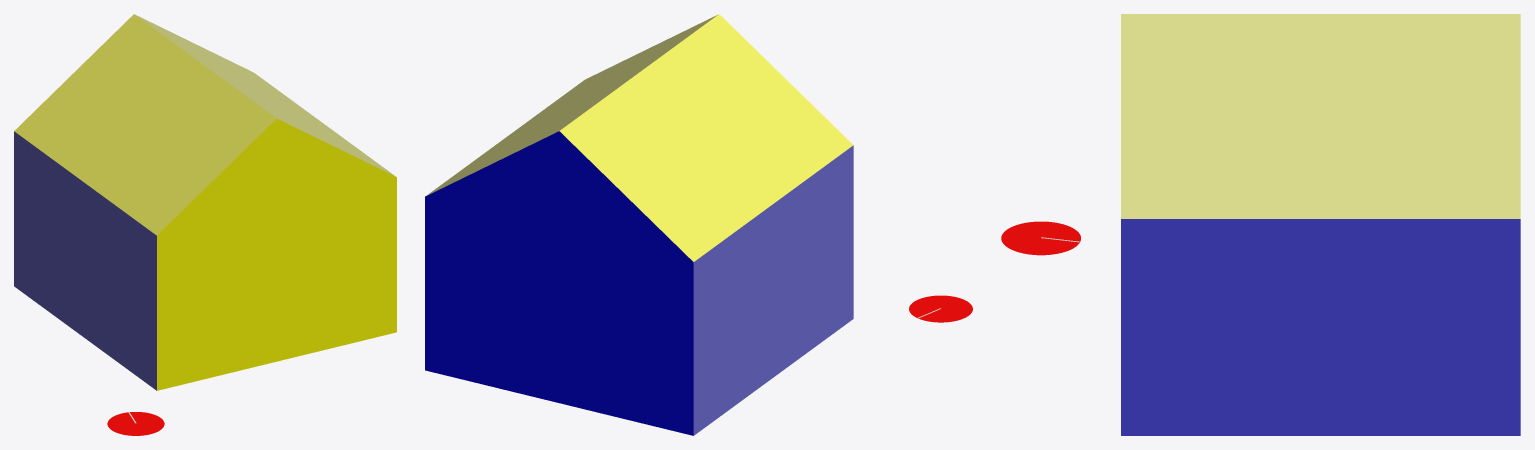
File: result.glb
3 renders of one model, left to right at view 1: azimuth 30°, elevation 25°; view 2: azimuth 150°, elevation 25°; view 3: azimuth 270°, elevation 25°, orthographic. The views are drawn at different scales.
Visible parts, largest first — view 1: a384133e-9234-4860-9865-341694c8c97d__undefined, b83a7d17-47f4-43f4-b9c3-2cdf848ae4be__undefined, 80829d80-55df-4347-9503-a358cf9ca25d__undefined, 31a68d57-ef72-4cdb-9f20-9b10b270733d__undefined, 1f316218-c22b-4024-b050-7761e02bf061__Circle; view 2: cdb364b9-1e14-4ef9-bffe-619071ccce30__undefined, b83a7d17-47f4-43f4-b9c3-2cdf848ae4be__undefined, 80829d80-55df-4347-9503-a358cf9ca25d__undefined, 31a68d57-ef72-4cdb-9f20-9b10b270733d__undefined, 1f316218-c22b-4024-b050-7761e02bf061__Circle; view 3: bf14ad40-2208-45d0-8780-9a1cf1c5684e__undefined, 31a68d57-ef72-4cdb-9f20-9b10b270733d__undefined, 1f316218-c22b-4024-b050-7761e02bf061__Circle.
Boxes of the visible parts, bbox=[...] form: a384133e-9234-4860-9865-341694c8c97d__undefined: bbox=[157, 119, 396, 390]; b83a7d17-47f4-43f4-b9c3-2cdf848ae4be__undefined: bbox=[14, 14, 276, 235]; 80829d80-55df-4347-9503-a358cf9ca25d__undefined: bbox=[14, 131, 156, 390]; 31a68d57-ef72-4cdb-9f20-9b10b270733d__undefined: bbox=[136, 15, 395, 176]; 1f316218-c22b-4024-b050-7761e02bf061__Circle: bbox=[107, 412, 164, 435]; cdb364b9-1e14-4ef9-bffe-619071ccce30__undefined: bbox=[425, 131, 693, 435]; b83a7d17-47f4-43f4-b9c3-2cdf848ae4be__undefined: bbox=[559, 14, 853, 261]; 80829d80-55df-4347-9503-a358cf9ca25d__undefined: bbox=[693, 145, 853, 435]; 31a68d57-ef72-4cdb-9f20-9b10b270733d__undefined: bbox=[426, 15, 717, 195]; 1f316218-c22b-4024-b050-7761e02bf061__Circle: bbox=[909, 295, 972, 322]; bf14ad40-2208-45d0-8780-9a1cf1c5684e__undefined: bbox=[1121, 219, 1520, 435]; 31a68d57-ef72-4cdb-9f20-9b10b270733d__undefined: bbox=[1121, 14, 1520, 218]; 1f316218-c22b-4024-b050-7761e02bf061__Circle: bbox=[1001, 221, 1080, 255].
Bounding box in the file's own units: 635 × 469 × 650.
